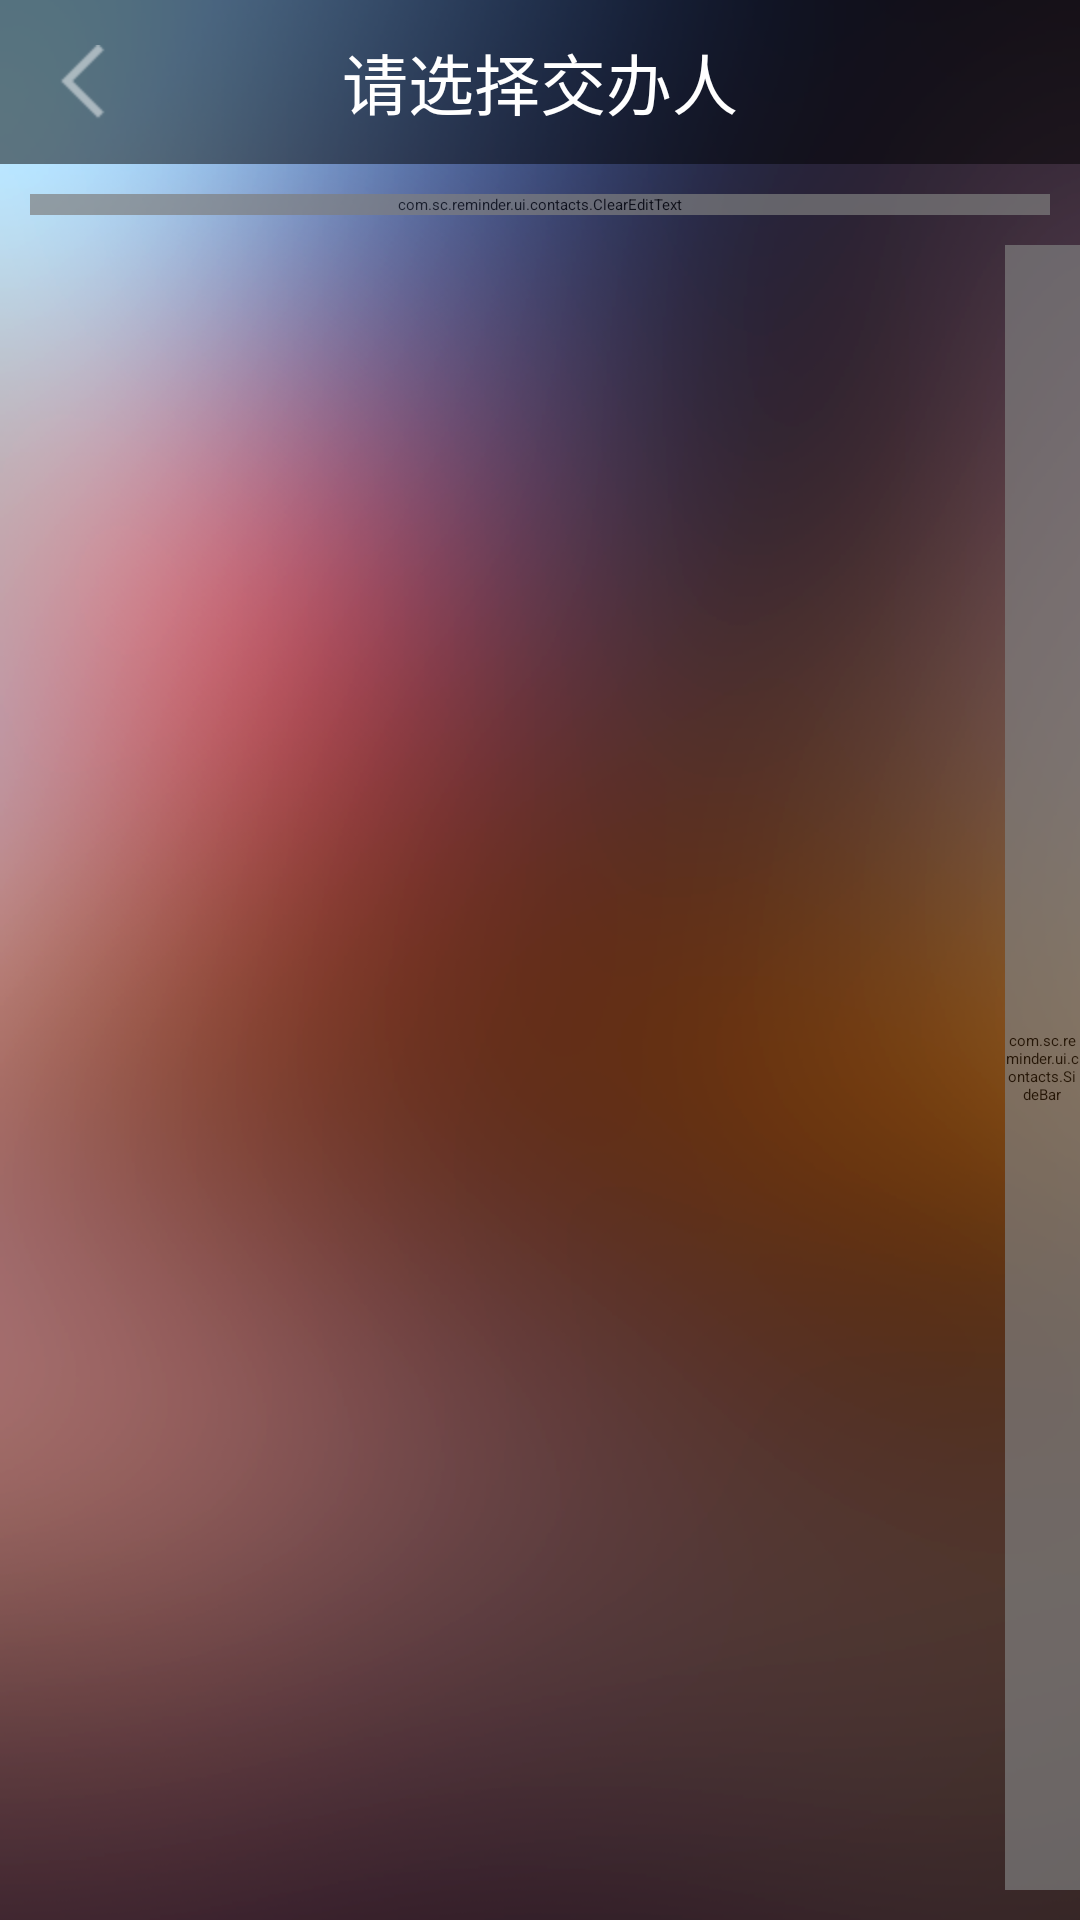

Where to tap for icons on this 1080px×1920px app screen, as [x,y]:
left arrow: [84,82]
